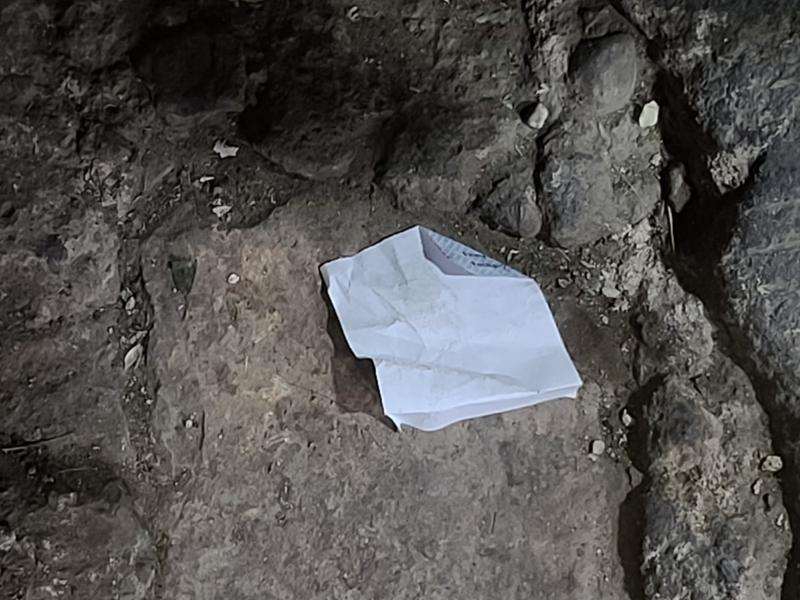papel: (317, 227, 582, 433)
